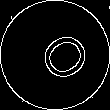O_SW: (21, 23, 88, 87)
